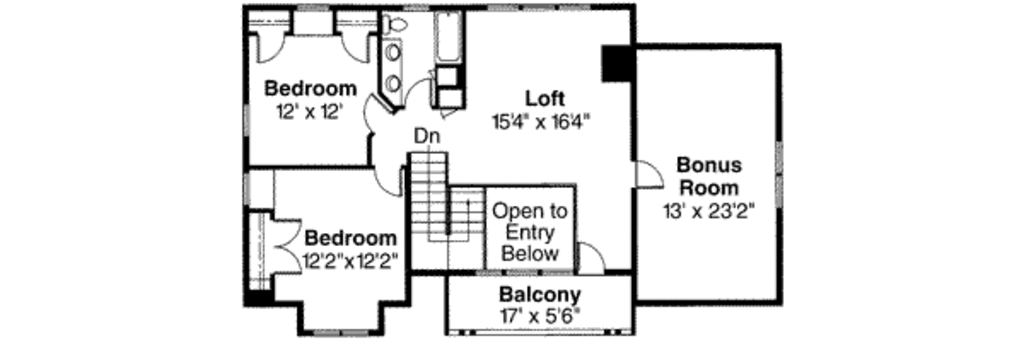door: (269, 218, 305, 279), (369, 156, 409, 200), (358, 85, 394, 130), (249, 22, 285, 64), (631, 155, 664, 194), (574, 239, 606, 279), (335, 31, 374, 63), (405, 75, 434, 115)
large_sink: (372, 7, 410, 36)
small_sink: (376, 43, 409, 98)
stairs: (405, 148, 483, 270)
tub: (429, 5, 470, 64)
window: (483, 1, 590, 20), (311, 324, 376, 340), (776, 136, 786, 209), (239, 93, 254, 135), (238, 171, 252, 208)
